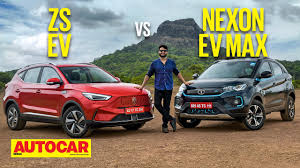Tata Nexon: (175, 58, 296, 131)
